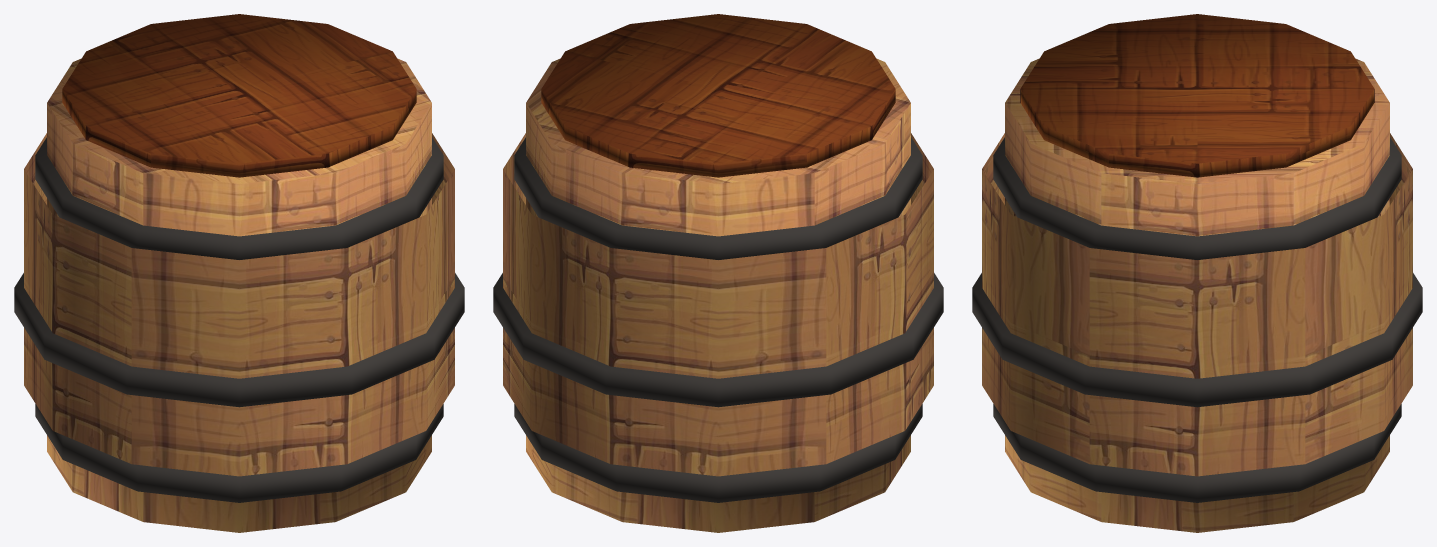
File: barrel.glb
3 views of the same model, side by side, from view 1: azimuth 30°, elevation 25°; view 2: azimuth 150°, elevation 25°; view 3: azimuth 270°, elevation 25° (orthographic).
Visible parts, largest first — view 1: barrel; view 2: barrel; view 3: barrel.
Part boxes in pixels (x1,y1,x2,y2): barrel: (14,14,464,532); barrel: (493,14,943,532); barrel: (972,14,1422,532).
Size of the model in its own units: 1.17 by 1.04 by 1.17.
Materials: 3 (2 with a texture image).
